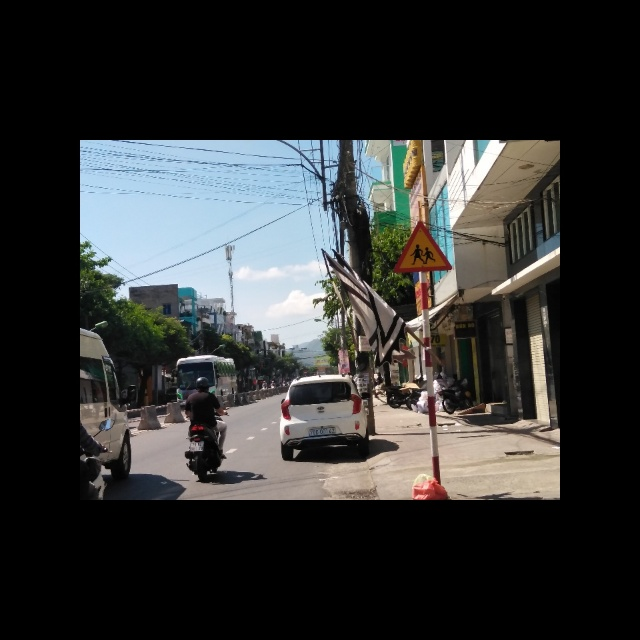Trẻ em ngang qua: (390, 220, 453, 274)
